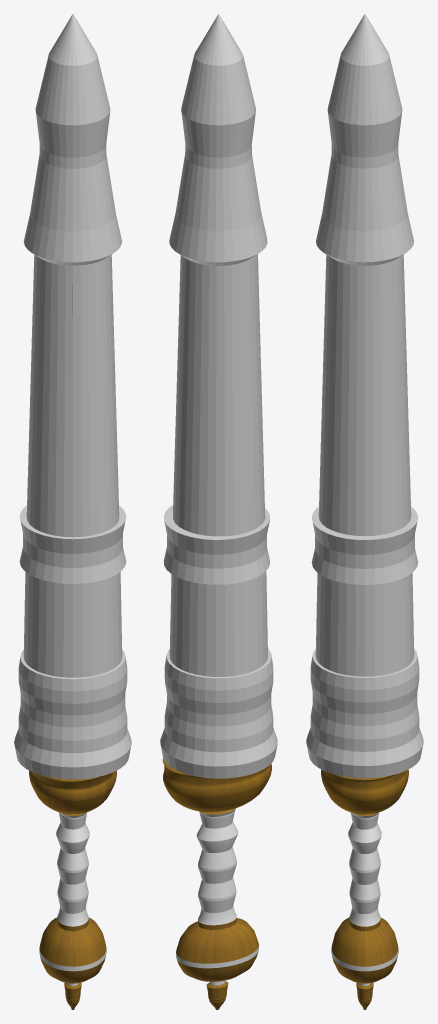
The model's file is sword.fbx.
The picture shows the model from 3 angles, left to right: view 1: azimuth 90°, elevation 25°; view 2: azimuth 210°, elevation 25°; view 3: azimuth 270°, elevation 25°; orthographic projection.
Parts seen in each view (by area): view 1: Cylinder.001, Cylinder.004, Cylinder.002, Cylinder, Cylinder.003; view 2: Cylinder.001, Cylinder.004, Cylinder, Cylinder.002, Cylinder.003; view 3: Cylinder.001, Cylinder.004, Cylinder.002, Cylinder, Cylinder.003.
Boxes of the visible parts, x1,y1,x2,y2 form: Cylinder.001: (23, 255, 122, 677); Cylinder.004: (23, 14, 122, 265); Cylinder.002: (14, 649, 131, 779); Cylinder: (29, 770, 116, 1009); Cylinder.003: (19, 505, 126, 583); Cylinder.001: (169, 254, 267, 676); Cylinder.004: (169, 14, 267, 265); Cylinder: (162, 758, 271, 1009); Cylinder.002: (160, 648, 277, 778); Cylinder.003: (163, 505, 269, 584); Cylinder.001: (315, 254, 414, 676); Cylinder.004: (316, 14, 413, 265); Cylinder.002: (306, 648, 423, 778); Cylinder: (321, 769, 408, 1009); Cylinder.003: (311, 507, 418, 584).
Size of the model in its own units: 91.29 by 837 by 89.75.
Materials: 5 (1 with a texture image).
